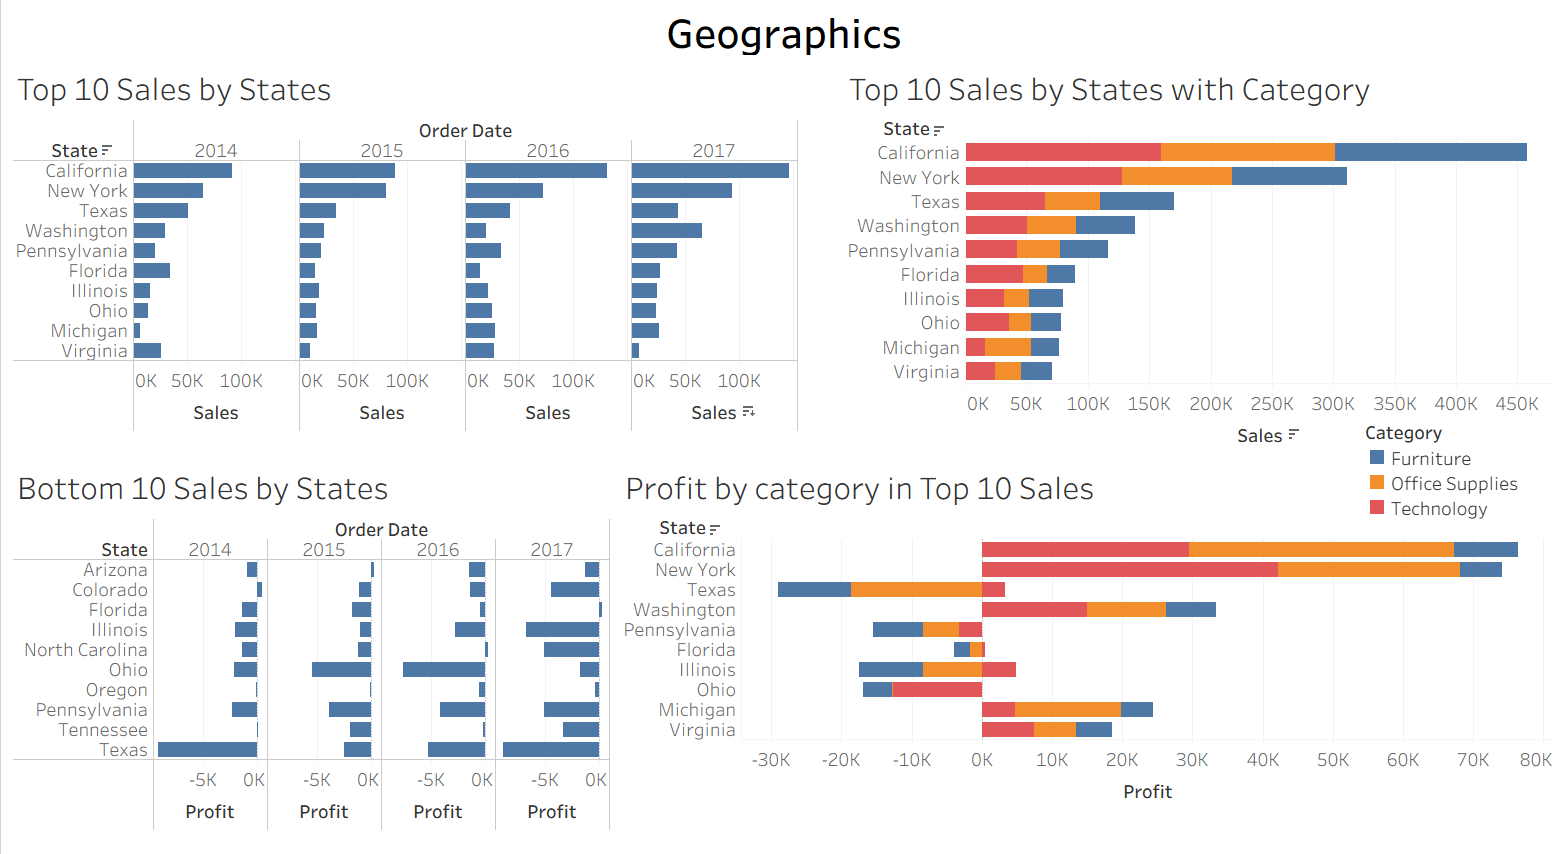

The page's visual inventory and layout, read from the dashboard file:
{"tool":"tableau","page":{"name":"Geographics","canvas":[1566,868],"ordinal":0},"visuals":[{"type":"text","box":[8,8,1550,54]},{"type":"worksheet","title":"Top 10 Sales by States","mark":"Automatic","rows":["State"],"cols":["Order Date","Sales"],"box":[8,62,832,399]},{"type":"worksheet","title":"Top 10 Sales by States with Category","mark":"Automatic","rows":["State"],"cols":["Sales"],"box":[840,62,718,399]},{"type":"legend","title":"Top 10 Sales by States with Category","param":"[federated.1he7qs112cn0321eepdp601evxoy].[none:Category:nk]","box":[1364,422,159,101]},{"type":"worksheet","title":"Bottom 10 Profit by States","mark":"Bar","rows":["State"],"cols":["Order Date","Profit"],"box":[8,461,608,399]},{"type":"worksheet","title":"Profit by category in Top 10 Sales","mark":"Automatic","rows":["State"],"cols":["Profit"],"box":[616,461,942,399]}]}

Visuals, with their boxes in screenshot pixels (x1, y1, x2, y2), scaled from the page's 1566x868 canvas onto the 1565x854 screenshot:
text: 8:8:1557:61
"Top 10 Sales by States" worksheet: 8:61:839:454
"Top 10 Sales by States with Category" worksheet: 839:61:1557:454
"Top 10 Sales by States with Category" legend: 1363:415:1522:515
"Bottom 10 Profit by States" worksheet (Bar marks): 8:454:616:846
"Profit by category in Top 10 Sales" worksheet: 616:454:1557:846
